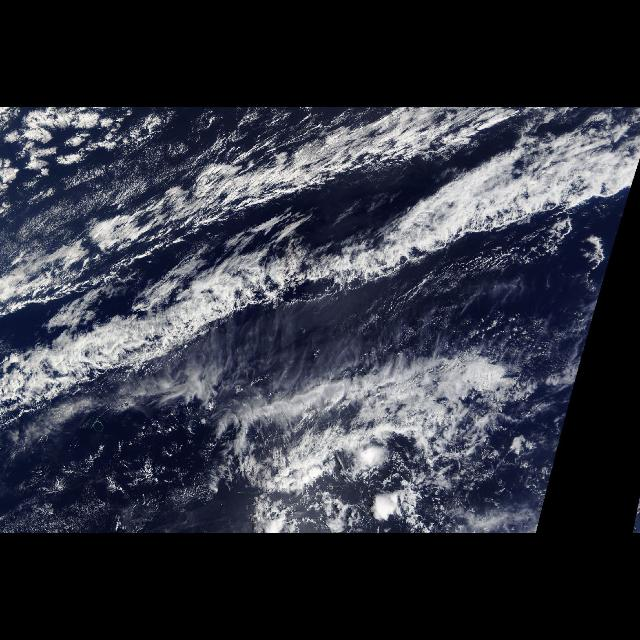Fish: (4, 124, 626, 410)
Flower: (4, 112, 282, 210)
